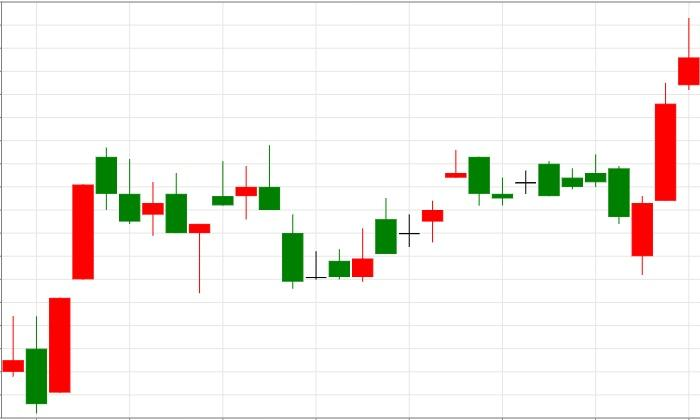bullish_engulfing_rise: (258, 145, 374, 289)
three_white_soldiers_rise: (584, 18, 700, 275)
